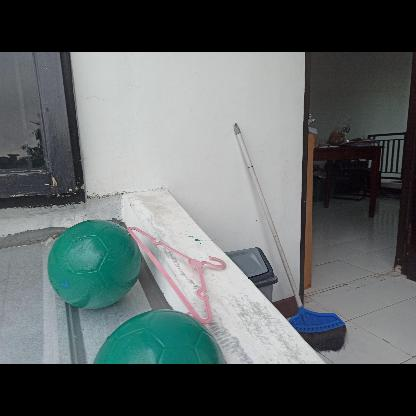green_ball: (44, 216, 138, 308)
